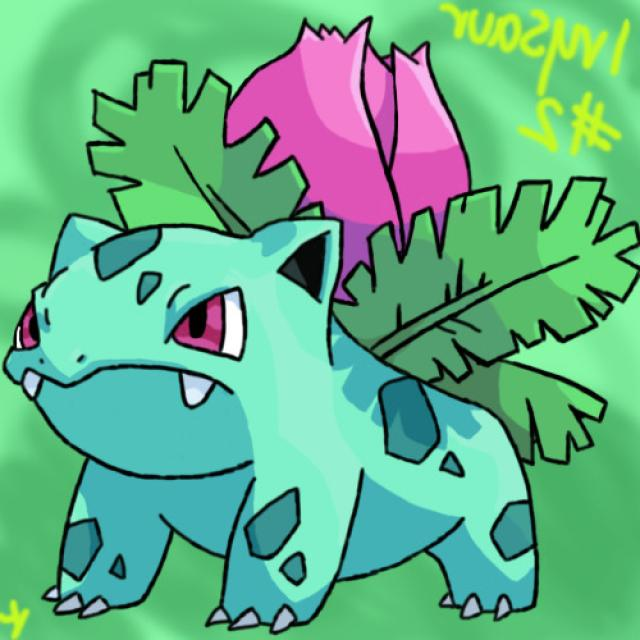Ivysaur: (25, 14, 547, 628)
